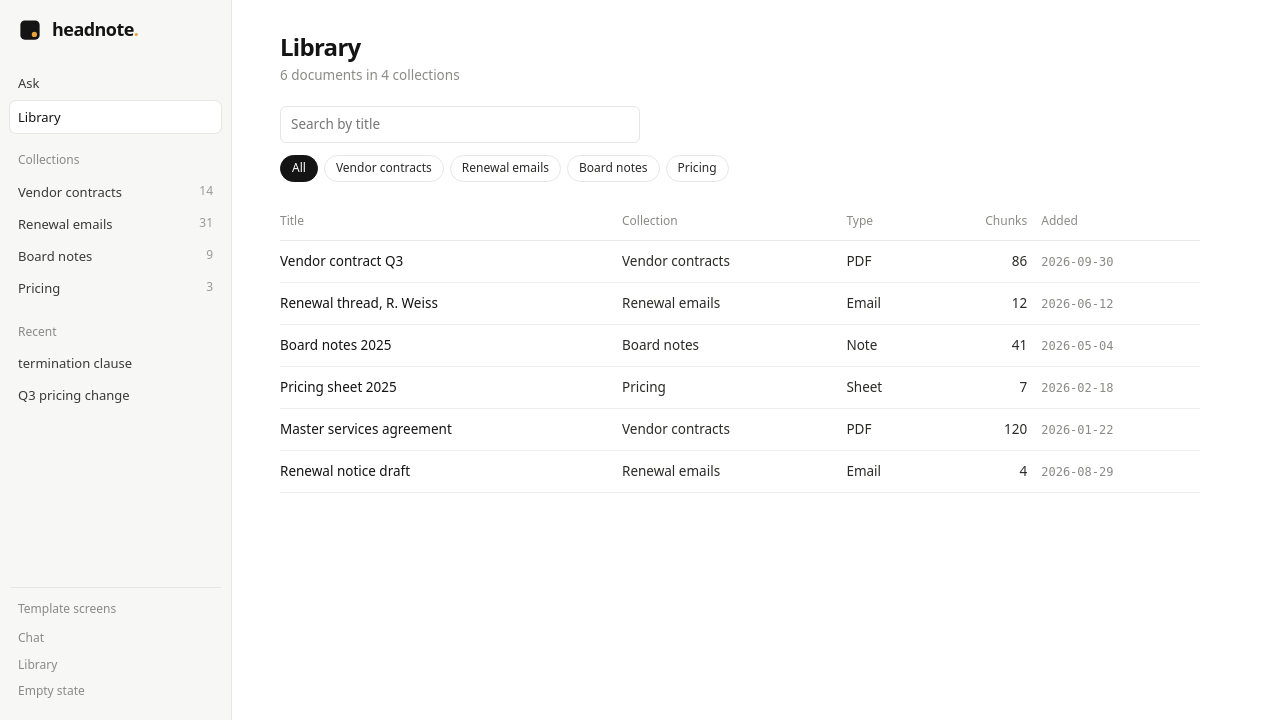
Scenario: App › filters the library by collection
The image size is (1280, 720).
Expected: the heading "Library" is shown, [280,30,360,63]
Click the button "Board notes": (613,168) [567,155,660,182]
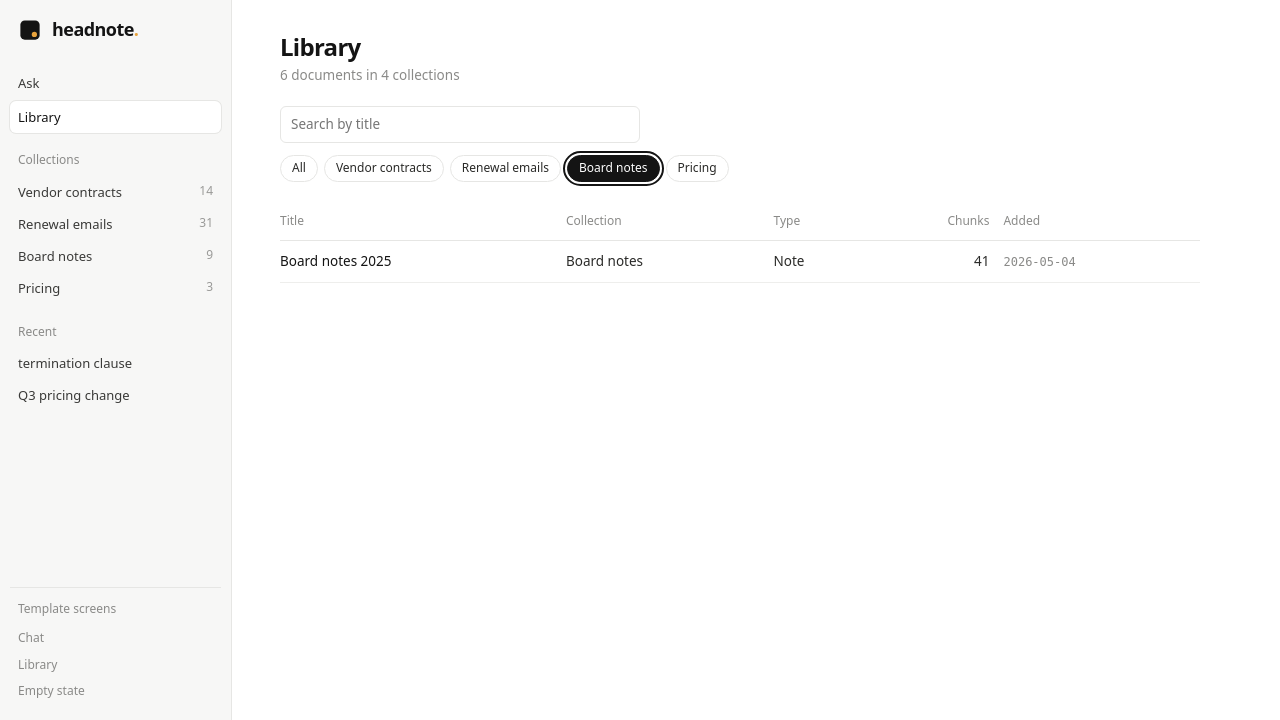
Expected: the column heading "Board notes 2025" is shown, [280,241,566,283]
Now the column heading "Vendor contract Q3" is gone
